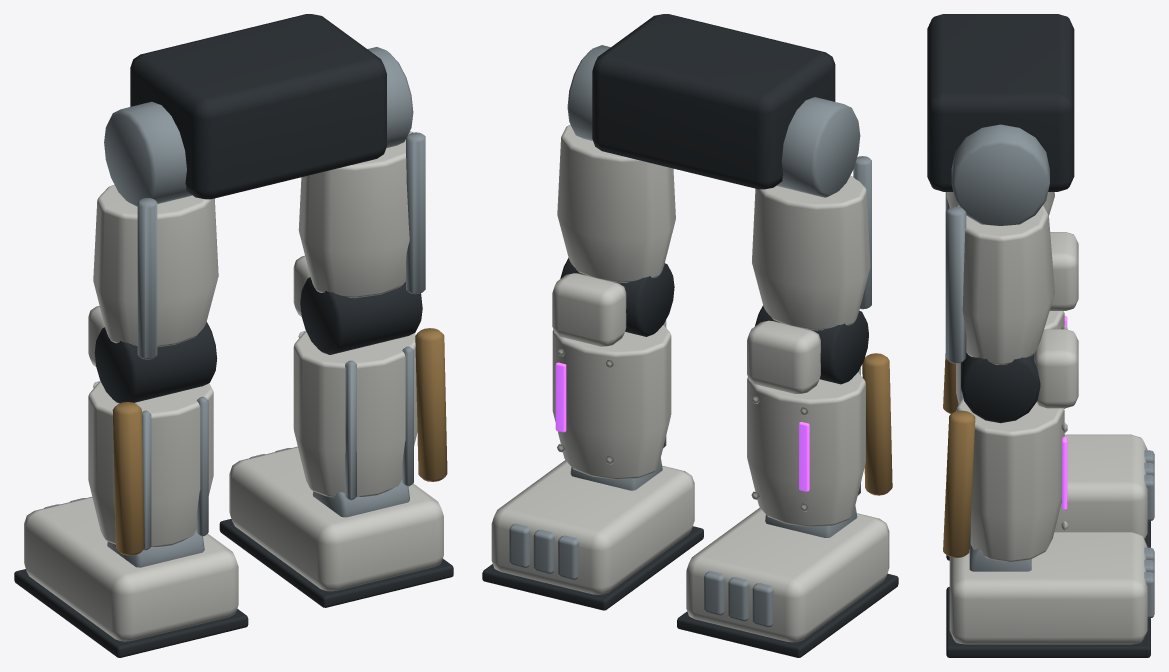
Rendered from legs_12.glb.
The picture shows the model from 3 angles, left to right: view 1: azimuth 30°, elevation 25°; view 2: azimuth 150°, elevation 25°; view 3: azimuth 270°, elevation 25°; orthographic projection. The views are drawn at different scales.
Parts seen in each view (by area): view 1: RightShin.011_Geometry, LeftShin.011_Geometry, Pelvic carrier.011, LeftThigh.011_Geometry, RightThigh.011_Geometry; view 2: LeftShin.011_Geometry, RightShin.011_Geometry, Pelvic carrier.011, LeftThigh.011_Geometry, RightThigh.011_Geometry; view 3: RightShin.011_Geometry, RightThigh.011_Geometry, Pelvic carrier.011, LeftShin.011_Geometry, LeftThigh.011_Geometry.
Boxes of the visible parts, <box> form: RightShin.011_Geometry: <box>219,255,453,607</box>; LeftShin.011_Geometry: <box>14,306,248,657</box>; Pelvic carrier.011: <box>130,14,386,199</box>; LeftThigh.011_Geometry: <box>93,101,218,359</box>; RightThigh.011_Geometry: <box>298,47,425,298</box>; LeftShin.011_Geometry: <box>677,305,898,657</box>; RightShin.011_Geometry: <box>482,258,703,610</box>; Pelvic carrier.011: <box>592,14,835,189</box>; LeftThigh.011_Geometry: <box>752,97,871,330</box>; RightThigh.011_Geometry: <box>557,45,675,282</box>; RightShin.011_Geometry: <box>943,329,1154,657</box>; RightThigh.011_Geometry: <box>945,124,1054,365</box>; Pelvic carrier.011: <box>927,14,1074,191</box>; LeftShin.011_Geometry: <box>943,232,1154,560</box>; LeftThigh.011_Geometry: <box>945,192,1054,215</box>.
Bounding box in the file's own units: 0.59 × 0.908 × 0.356.
